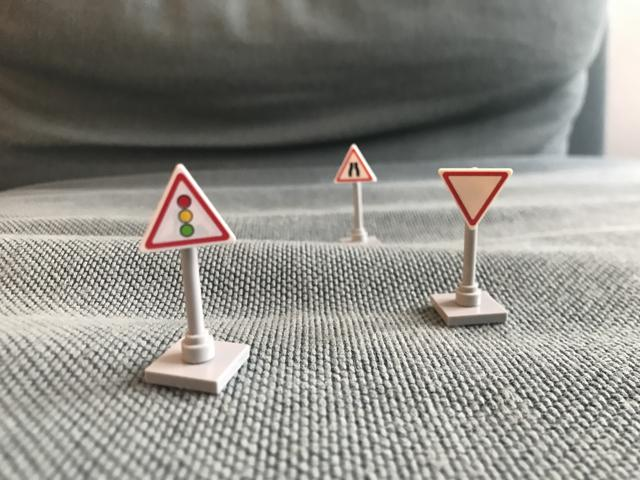lichtzeichenanlage: (136, 161, 238, 256)
verengte fahrbahn: (331, 143, 378, 188)
vorfahrt gewähren: (436, 166, 514, 229)
